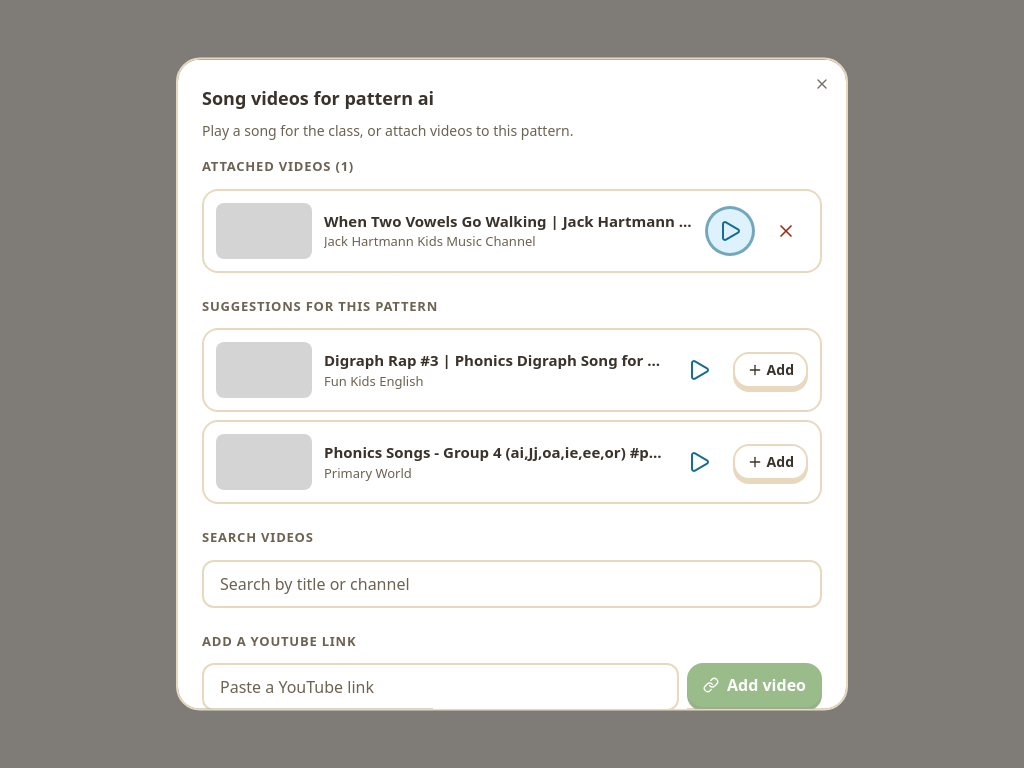
Scenario: PatternVideoModal (editable) › searches the bank and attached videos by title or channel
Type "diphthong" into the field named "Search videos by title or channel" at coordinates (512, 583), box [202,559,822,607]
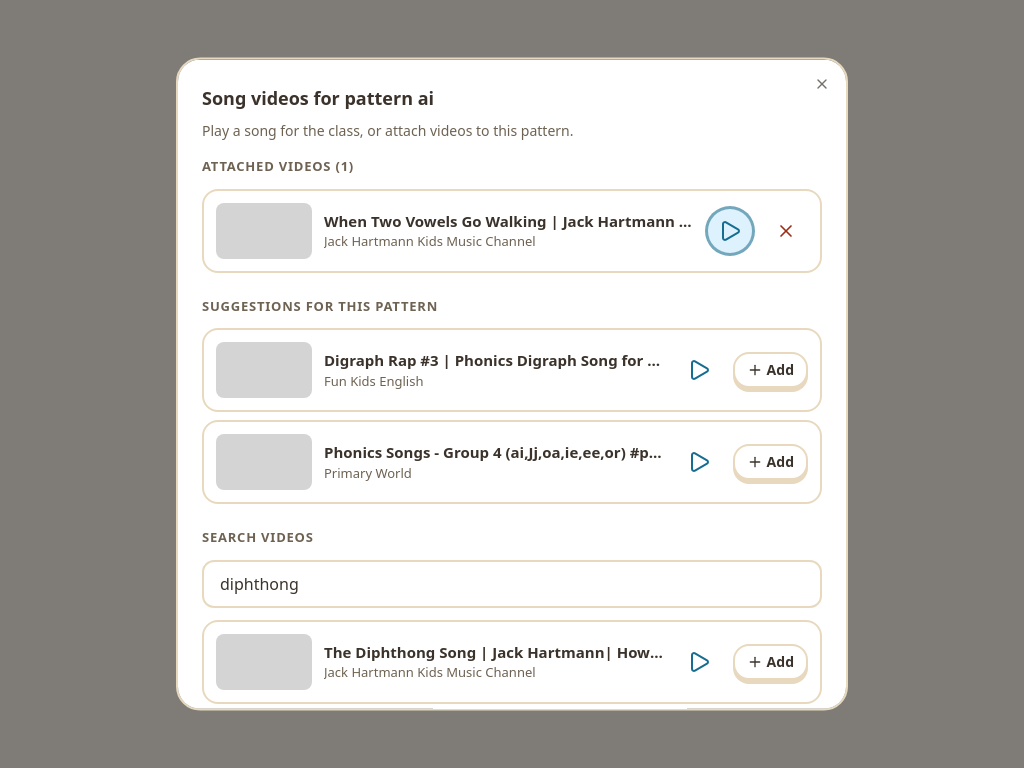
Now the text "The Diphthong Song | Jack Hartmann| How to Sing Diphthongs" is shown, box [324,640,665,663]
